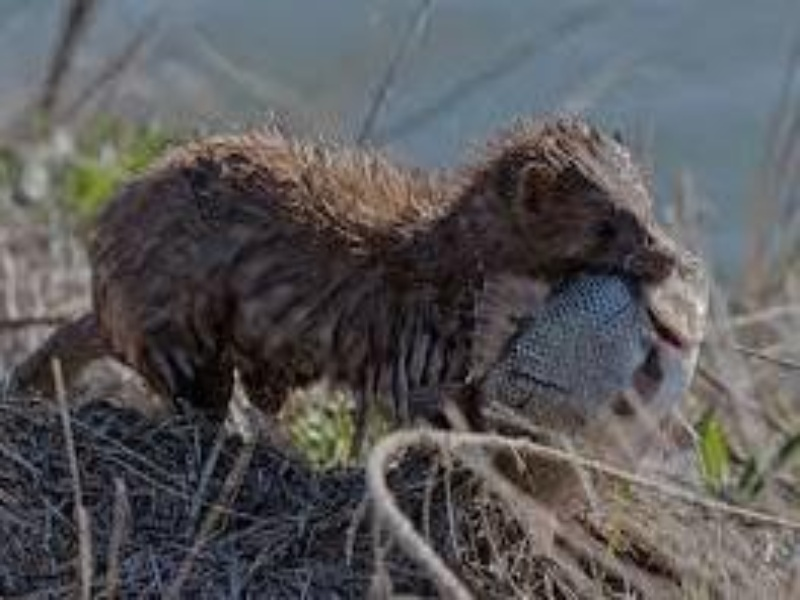minkish: (10, 115, 684, 492)
